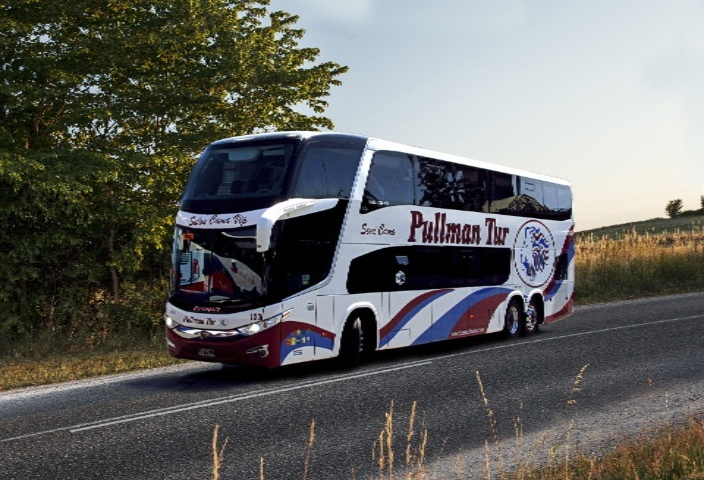bus: (164, 115, 585, 370)
